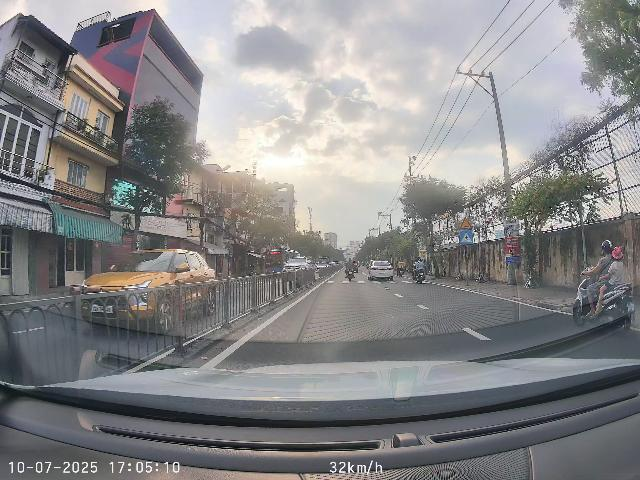221-duong-go-ghe: (460, 217, 472, 229)
423a-duong-nguoi-di-bo-sang-ngang-1: (460, 230, 473, 245)
